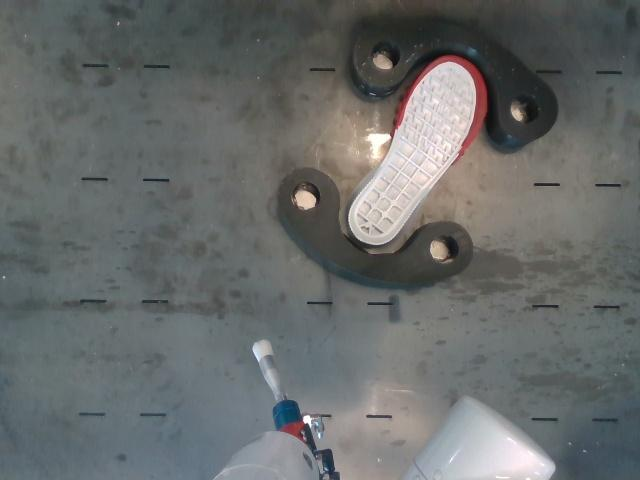shoes: (349, 56, 487, 243)
